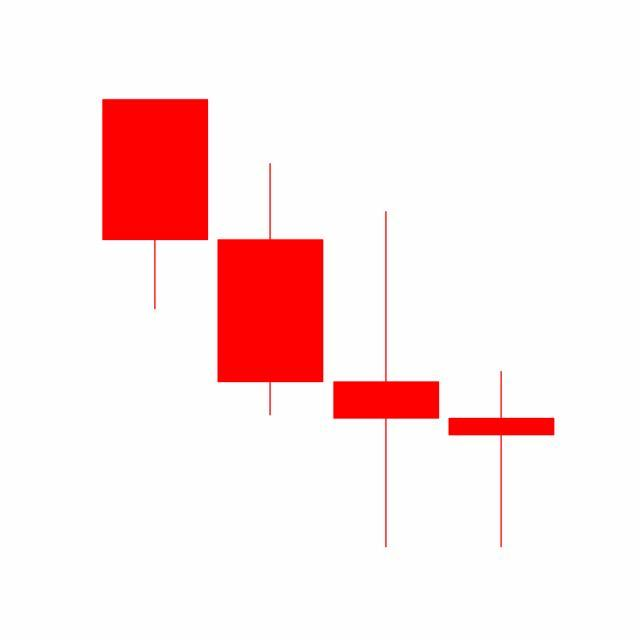Spinning Top: (444, 370, 560, 551)
